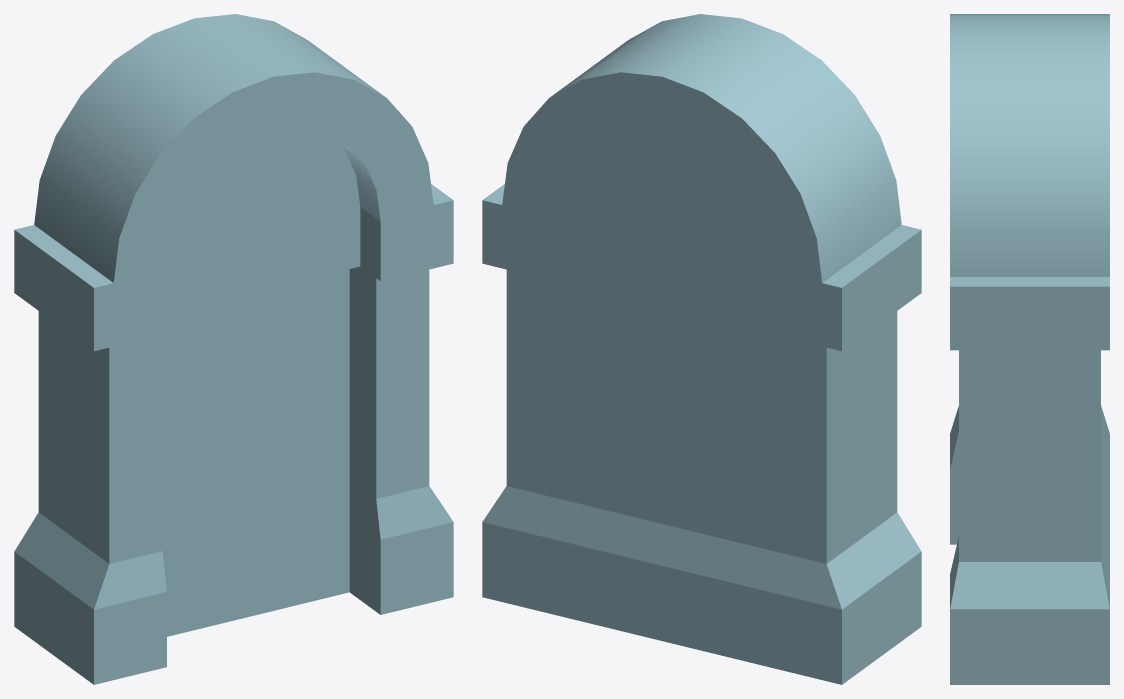
The model's file is gravestoneRound.obj.
3 views of the same model, side by side, from view 1: azimuth 30°, elevation 25°; view 2: azimuth 150°, elevation 25°; view 3: azimuth 270°, elevation 25° (orthographic).
Parts seen in each view (by area): view 1: gravestoneRound; view 2: gravestoneRound; view 3: gravestoneRound.
Boxes of the visible parts, x1,y1,x2,y2 form: gravestoneRound: [14, 14, 453, 684]; gravestoneRound: [482, 14, 921, 684]; gravestoneRound: [950, 14, 1109, 684].
Bounding box in the file's own units: 0.39 × 0.585 × 0.1495.
